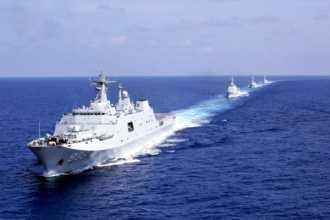warship: (29, 70, 174, 178), (222, 74, 246, 102), (247, 74, 259, 90)
